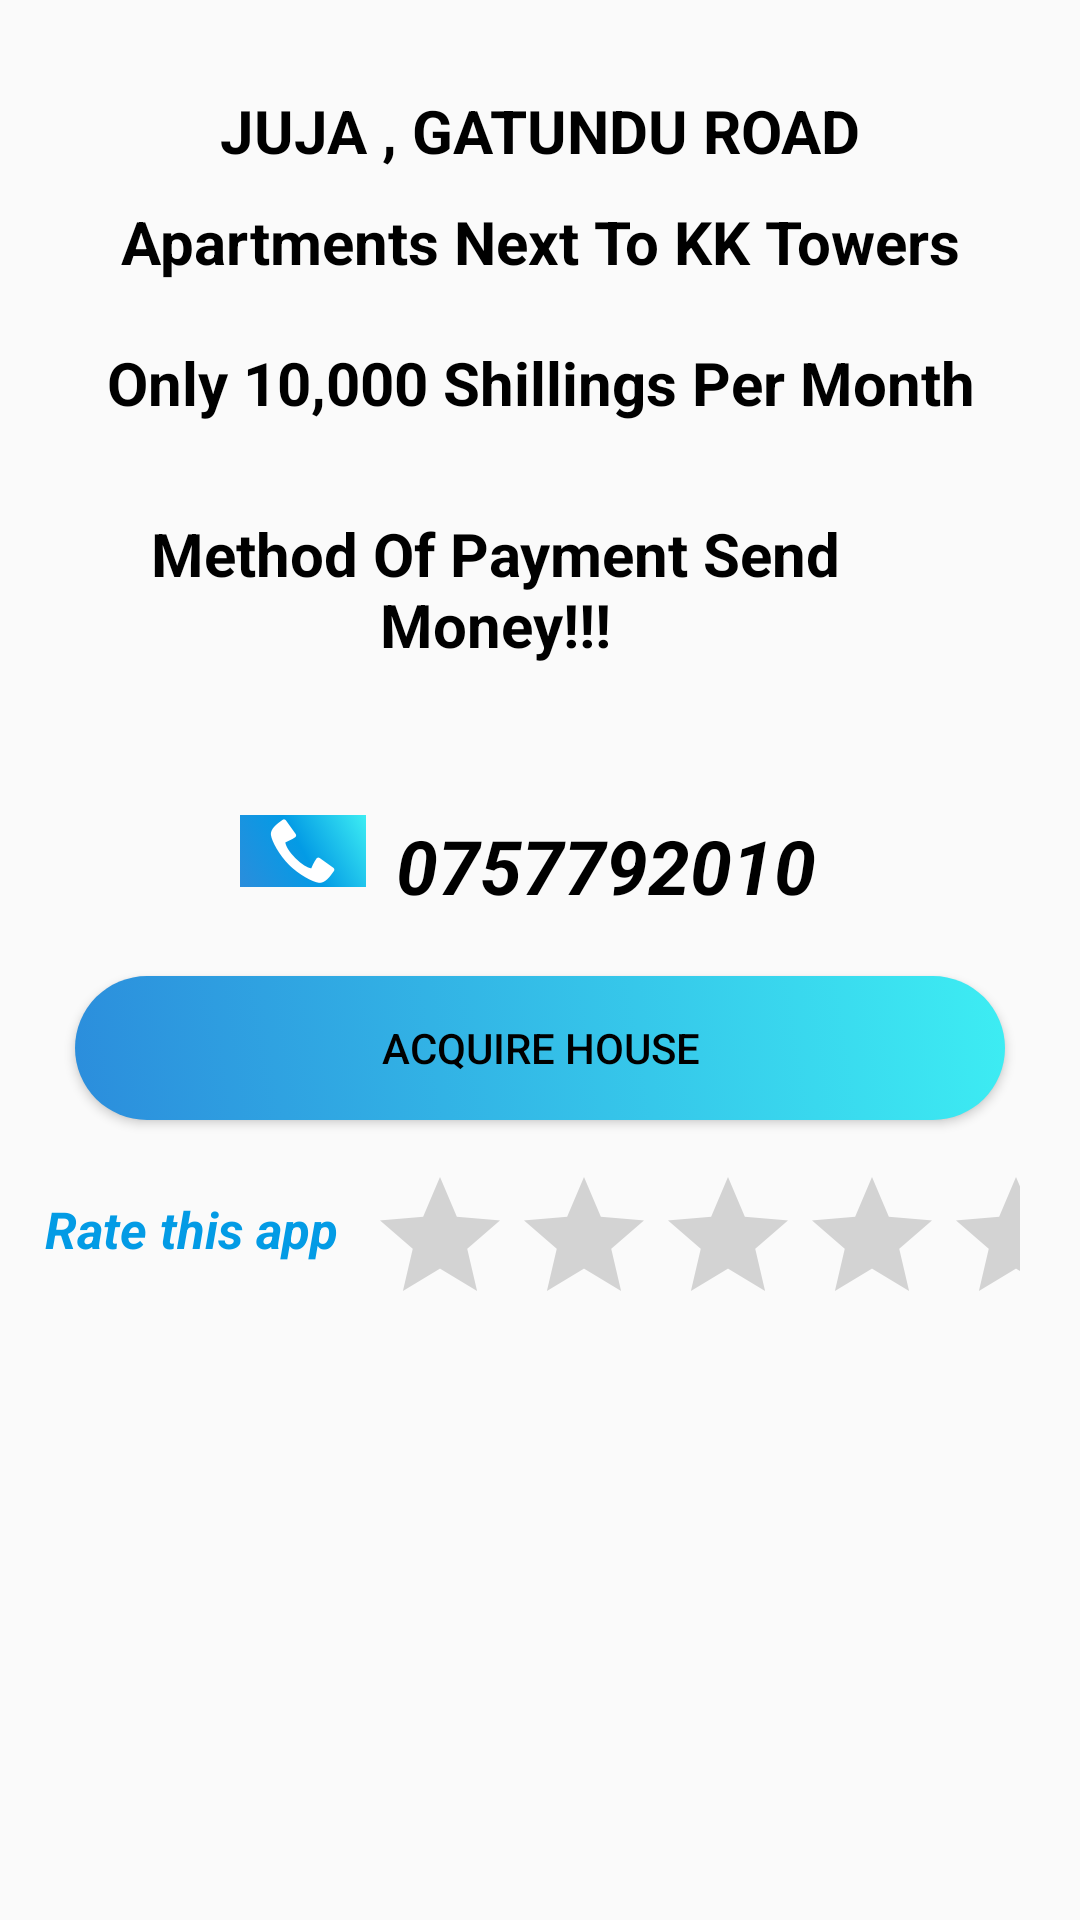

Icon bounding boxes for this 1080 x 1920 phone screenshot, format bbox=(x1, y1, x2, y2):
phone call: bbox=(240, 815, 366, 887)
